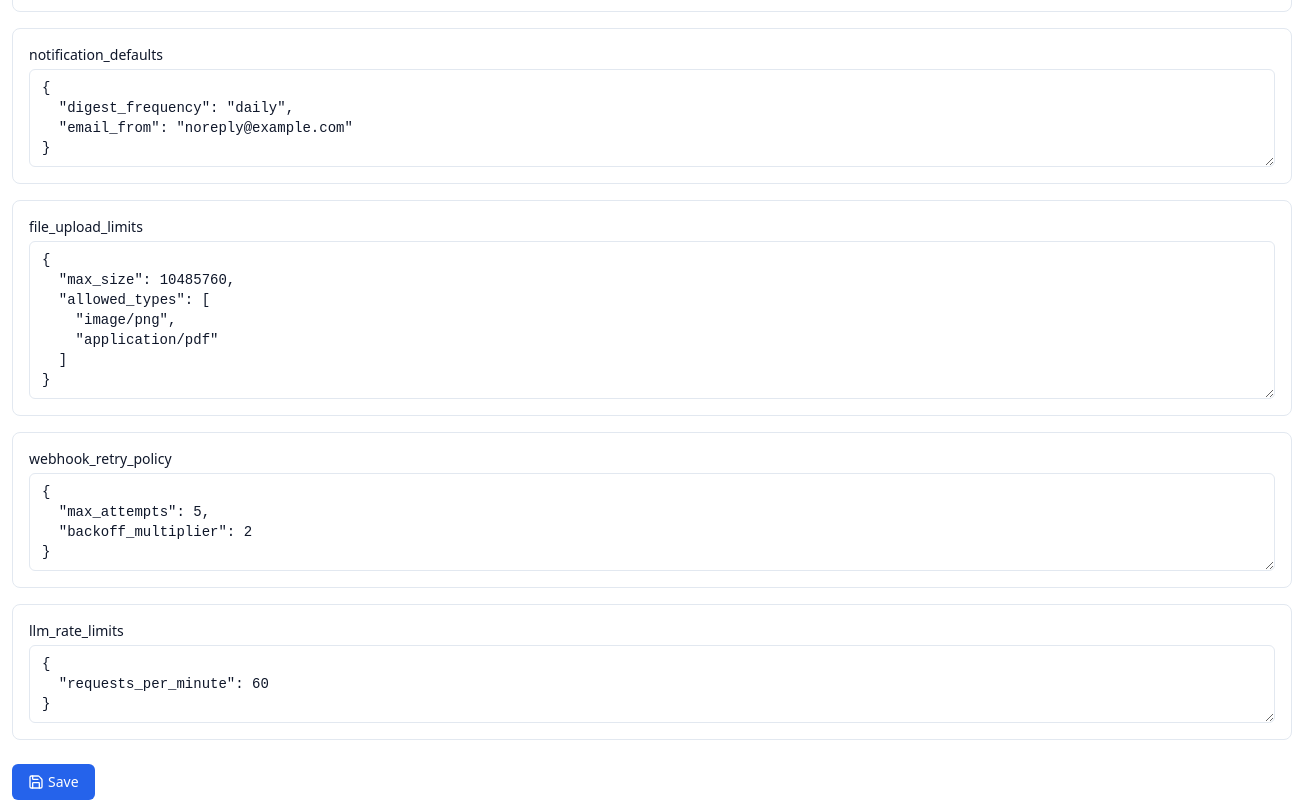
SystemSettings › shows error message on save failure
(page scrolled)
Click the button with test id "settings-save-btn" at {"x": 53, "y": 782}, box [12,764,95,799]
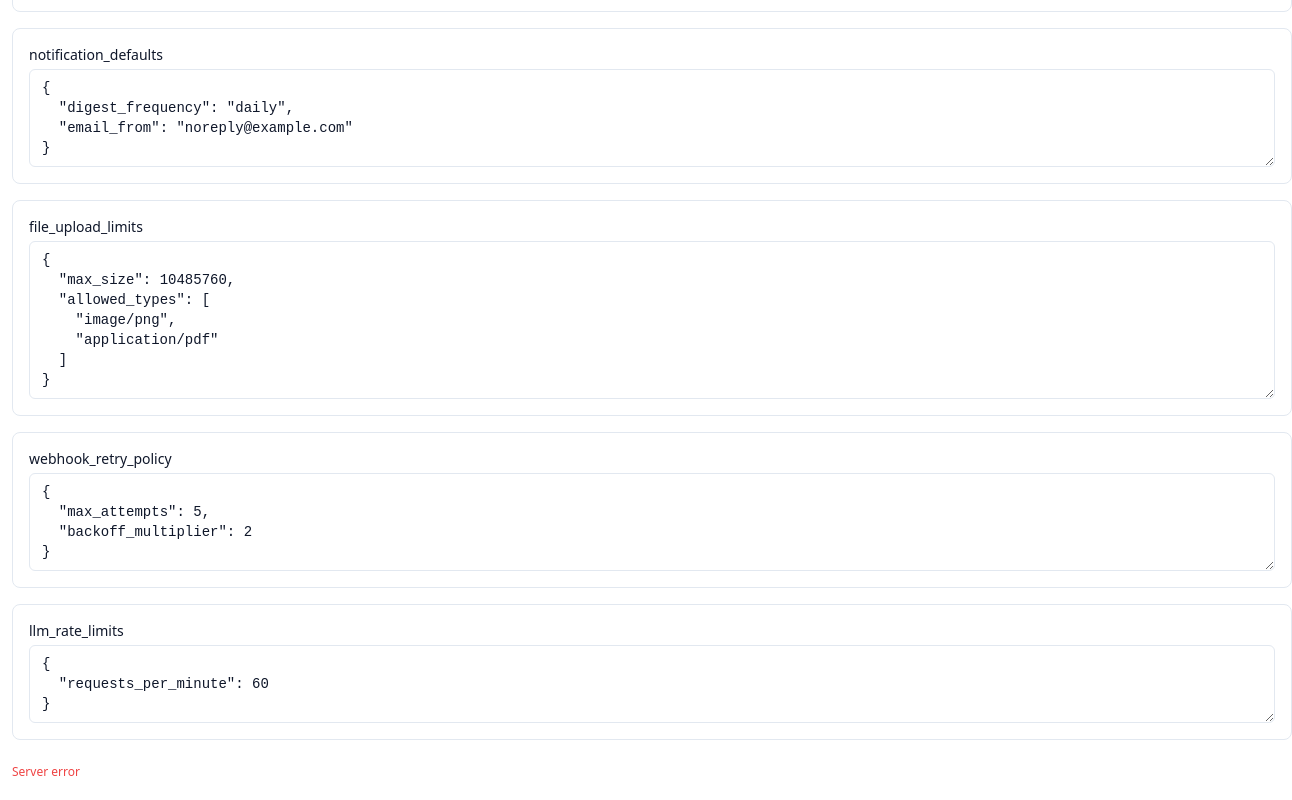
Check: the text with test id "settings-error" reads "Server error", box [12,763,80,780]
